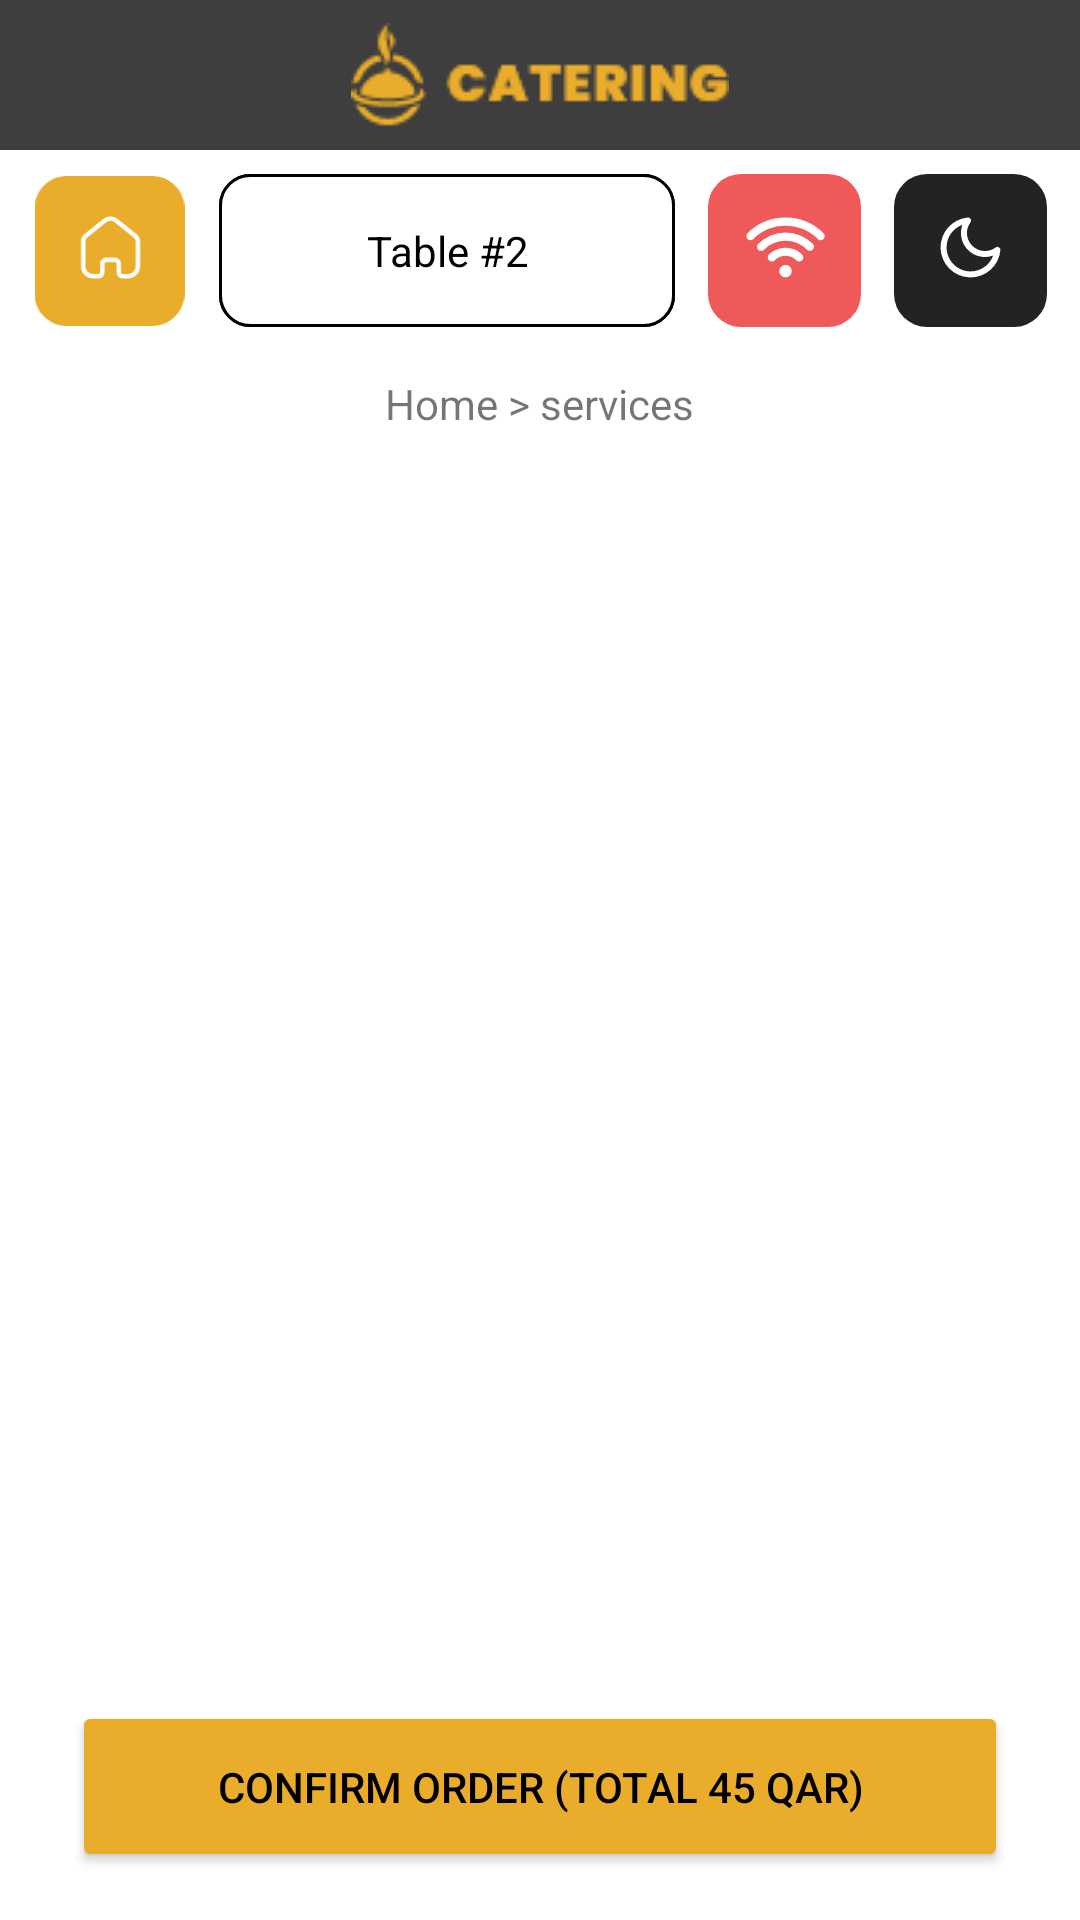

Where icons sit on this 1080*1920 app screen, as (x1, y1, x2, y2):
homw: (35, 176, 185, 326)
wifi: (708, 174, 861, 327)
